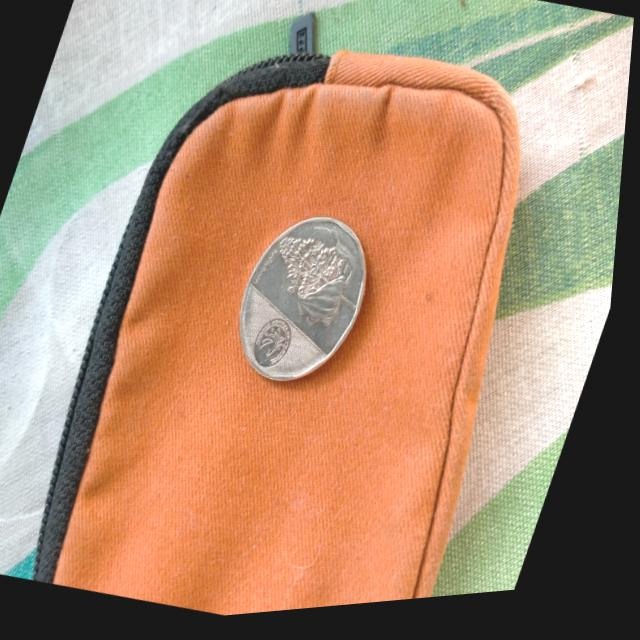10_New_Back: (251, 218, 376, 340)
